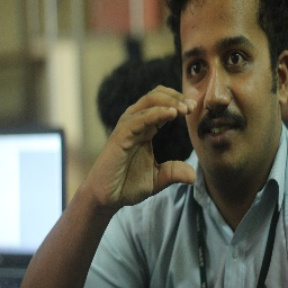C: (114, 77, 206, 206)
